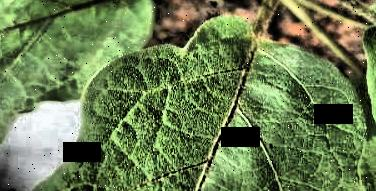HEALTHY: (0, 0, 376, 190)
